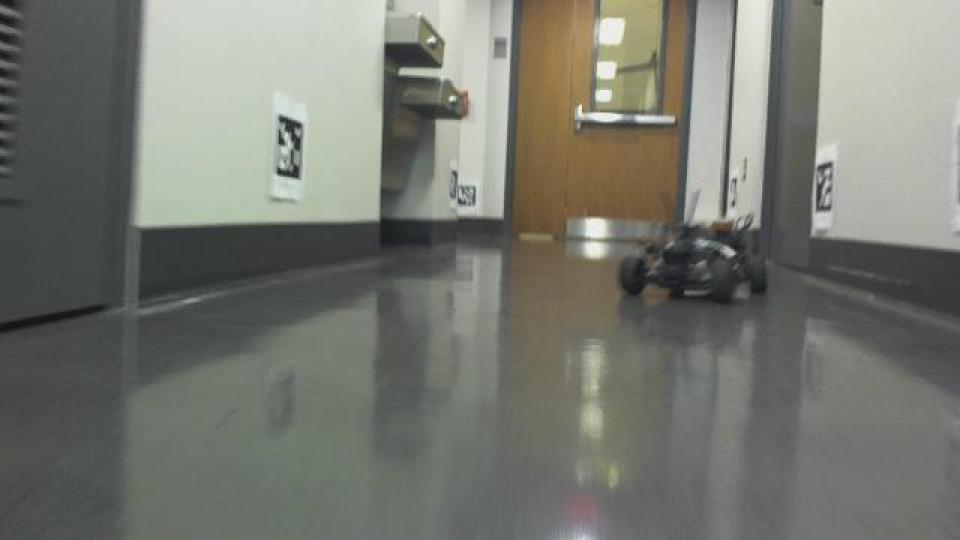car: (615, 210, 769, 306)
